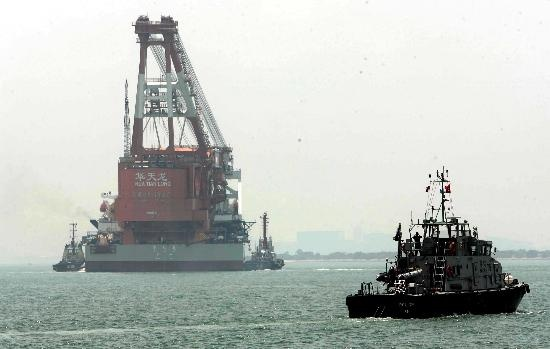Cargoship: (80, 139, 246, 272)
otherboat: (344, 182, 536, 318), (244, 212, 290, 274), (53, 224, 88, 277)
